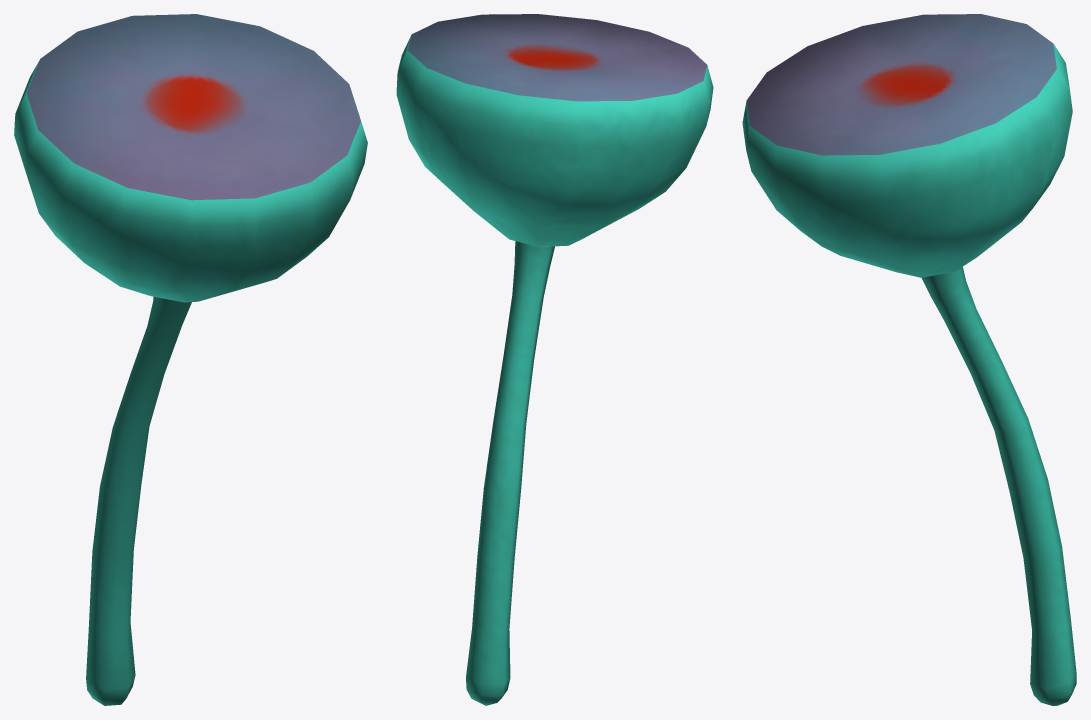
File: Cartoon Seaweed_13-1-23.fbx
3 views of the same model, side by side, from view 1: azimuth 30°, elevation 25°; view 2: azimuth 150°, elevation 25°; view 3: azimuth 270°, elevation 25° (orthographic). The views are drawn at different scales.
Parts seen in each view (by area): view 1: Cartoon Seaweed_13.1.23; view 2: Cartoon Seaweed_13.1.23; view 3: Cartoon Seaweed_13.1.23.
Part boxes in pixels (bbox=[...]): Cartoon Seaweed_13.1.23: bbox=[14, 14, 367, 705]; Cartoon Seaweed_13.1.23: bbox=[396, 14, 713, 705]; Cartoon Seaweed_13.1.23: bbox=[742, 14, 1076, 705].
Size of the model in its own units: 9.77 by 21.01 by 9.82.
1 material, 1 textured.
